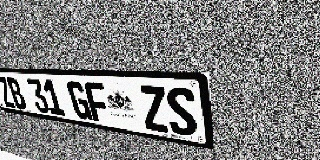1: (40, 79, 65, 116)
3: (26, 79, 51, 114)
B: (5, 77, 28, 110)
F: (83, 82, 112, 124)
G: (66, 81, 93, 121)
S: (165, 86, 198, 138)
Z: (138, 85, 170, 133), (0, 77, 16, 108)
